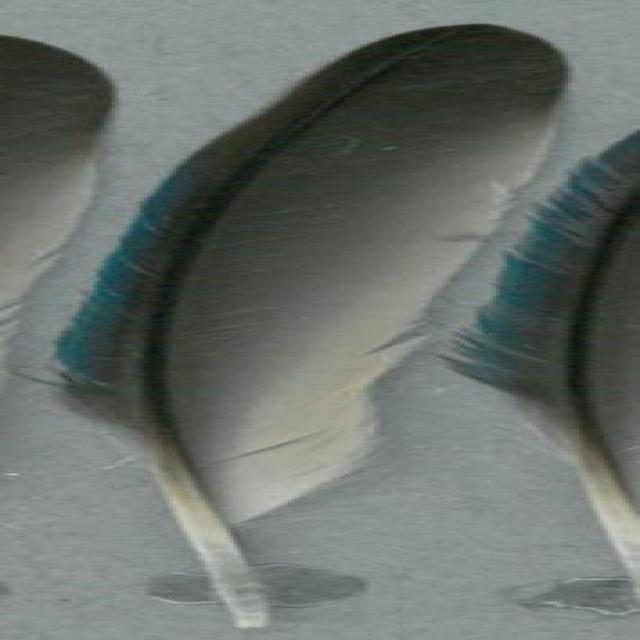feather: (36, 18, 575, 631)
